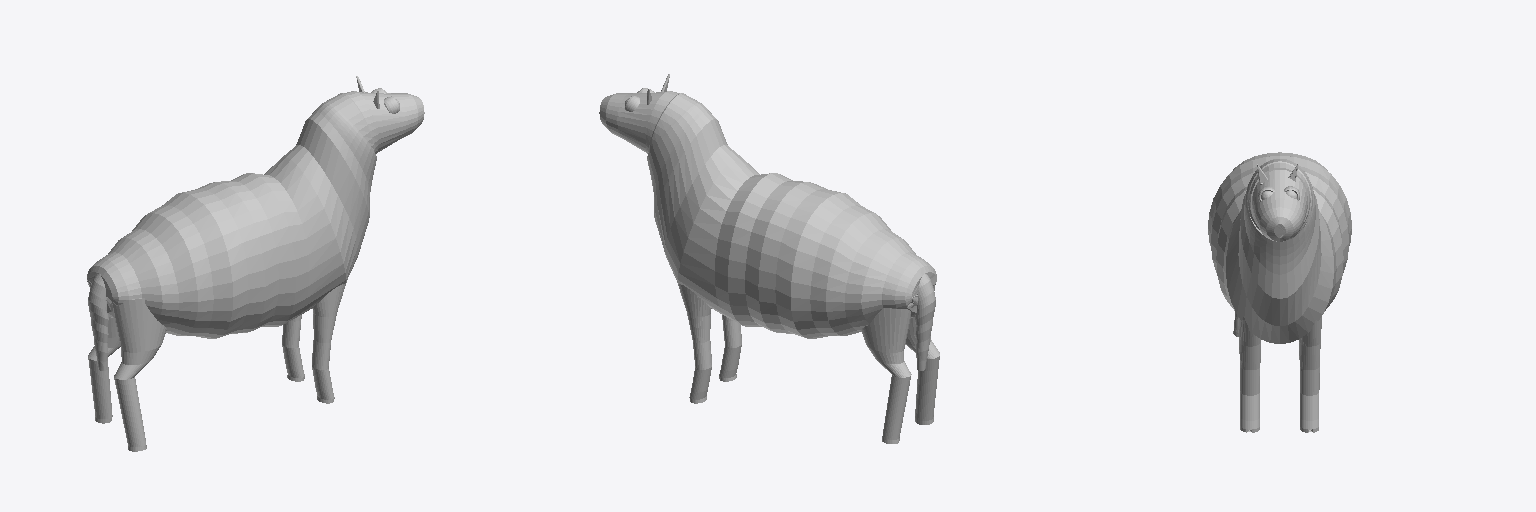
File: sheep.obj
The picture shows the model from 3 angles: view 1: azimuth 30°, elevation 25°; view 2: azimuth 150°, elevation 25°; view 3: azimuth 270°, elevation 25°; orthographic projection.
Parts seen in each view (by area): view 1: Cylinder.001; view 2: Cylinder.001; view 3: Cylinder.001.
Part boxes in pixels (x1,y1,x2,y2): Cylinder.001: (87,76,424,451); Cylinder.001: (599,74,939,443); Cylinder.001: (1208,152,1351,432).
Bounding box in the file's own units: 4.44 × 3.75 × 1.67.